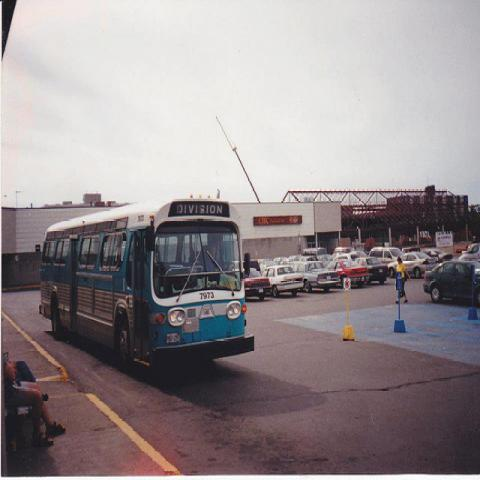bus: (34, 189, 255, 366)
car: (422, 259, 480, 303), (292, 260, 341, 292), (386, 251, 439, 279), (261, 264, 304, 296), (328, 257, 371, 288), (244, 267, 271, 300), (367, 246, 405, 264), (362, 258, 389, 283), (459, 242, 479, 263), (260, 261, 281, 275)
